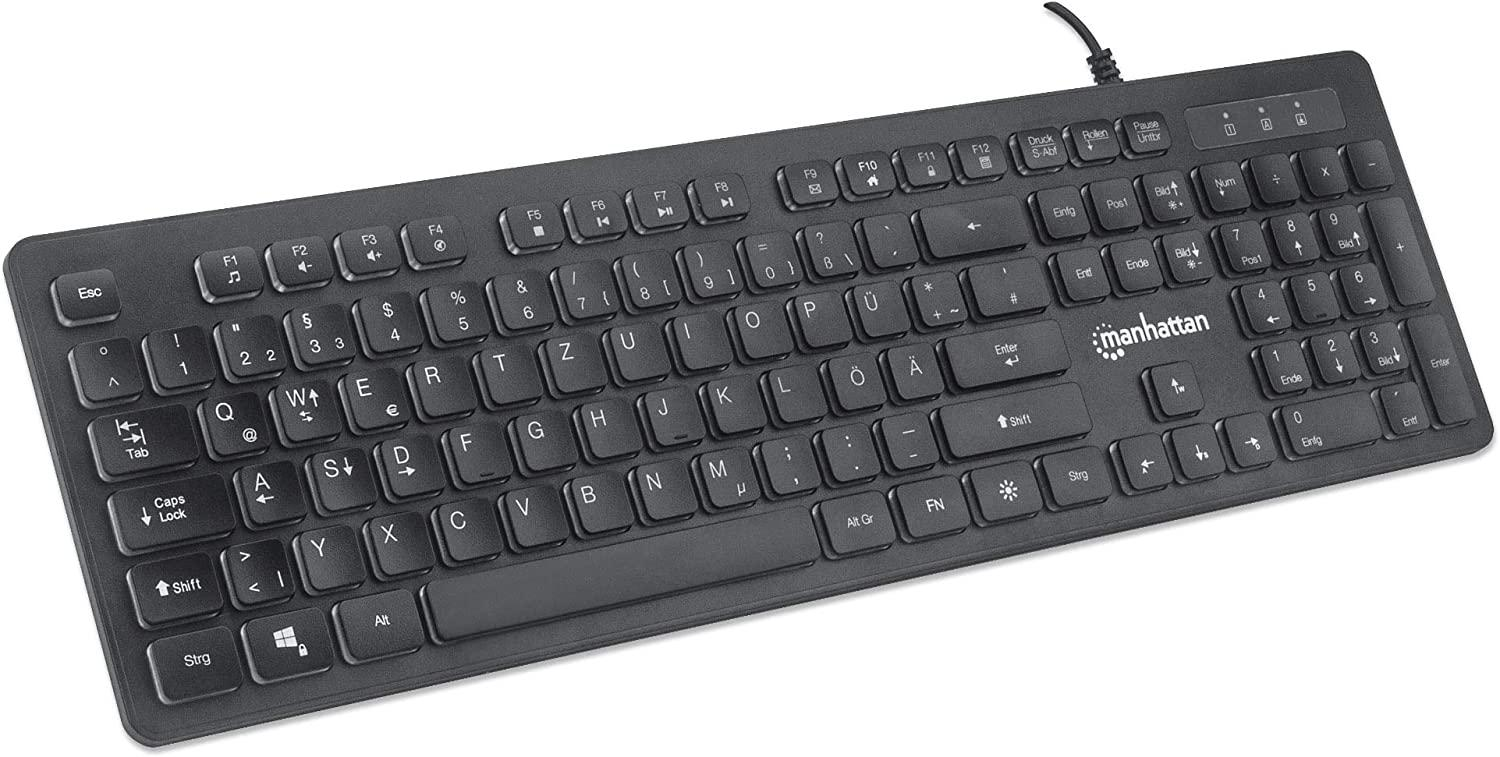0: (737, 225, 799, 286)
1: (140, 321, 214, 388)
2: (212, 311, 285, 376)
3: (281, 299, 354, 364)
4: (352, 286, 421, 350)
5: (420, 278, 489, 339)
6: (487, 266, 555, 327)
7: (550, 255, 616, 317)
8: (614, 244, 677, 307)
9: (677, 235, 740, 296)
a: (230, 455, 305, 523)
accent: (856, 207, 916, 264)
ae: (883, 337, 942, 397)
alt-left: (330, 584, 423, 659)
altgr-right: (813, 486, 895, 552)
b: (561, 467, 632, 531)
c: (427, 493, 502, 559)
caret: (66, 334, 141, 400)
comma: (756, 429, 820, 492)
d: (372, 430, 444, 496)
del: (914, 190, 1024, 255)
e: (337, 362, 406, 428)
enter: (939, 315, 1070, 386)
f: (441, 417, 510, 481)
g: (507, 405, 576, 469)
h: (572, 394, 640, 456)
hash: (964, 252, 1049, 315)
i: (667, 305, 730, 367)
j: (638, 382, 703, 444)
k: (699, 369, 764, 433)
keyboard: (6, 36, 1497, 746)
l: (763, 359, 825, 421)
less: (218, 533, 290, 604)
m: (691, 443, 758, 506)
minus: (876, 407, 937, 466)
n: (628, 454, 696, 518)
o: (726, 297, 792, 357)
oe: (824, 348, 885, 409)
p: (787, 285, 850, 346)
plus: (905, 266, 965, 325)
point: (817, 418, 878, 478)
q: (194, 387, 268, 455)
r: (406, 350, 476, 416)
s: (303, 442, 376, 509)
shift-left: (124, 546, 222, 624)
shift-lock: (101, 469, 235, 550)
shift-right: (935, 377, 1090, 456)
space: (417, 497, 820, 642)
ss: (796, 216, 858, 274)
strg-left: (143, 622, 243, 701)
strg-right: (1035, 442, 1111, 505)
t: (474, 340, 541, 402)
tab: (83, 401, 197, 477)
u: (603, 317, 669, 380)
ue: (847, 275, 908, 335)
v: (497, 481, 567, 544)
w: (267, 372, 340, 440)
x: (362, 506, 432, 573)
y: (292, 520, 363, 588)
z: (538, 328, 605, 391)
